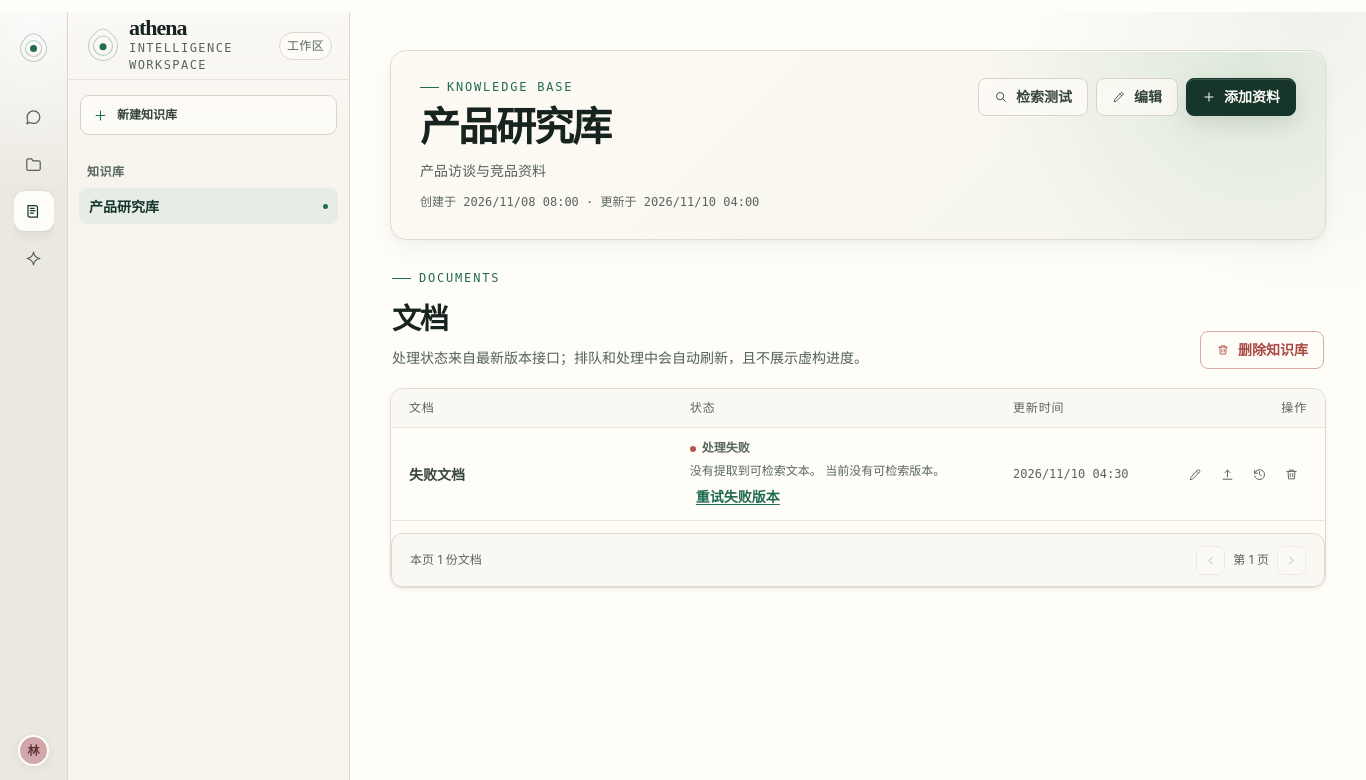
Test: 知识库文档状态 › 失败的最新版本可重试并回到排队状态
The width and height of the screenshot is (1366, 780).
Expected: the text "处理失败" is shown, x1=690 y1=439 x2=750 y2=458
Expected: the text "没有提取到可检索文本。 当前没有可检索版本。" is shown, x1=690 y1=462 x2=945 y2=480
Click the button "重试失败版本": x=738, y=497 x1=690 y1=484 x2=786 y2=510
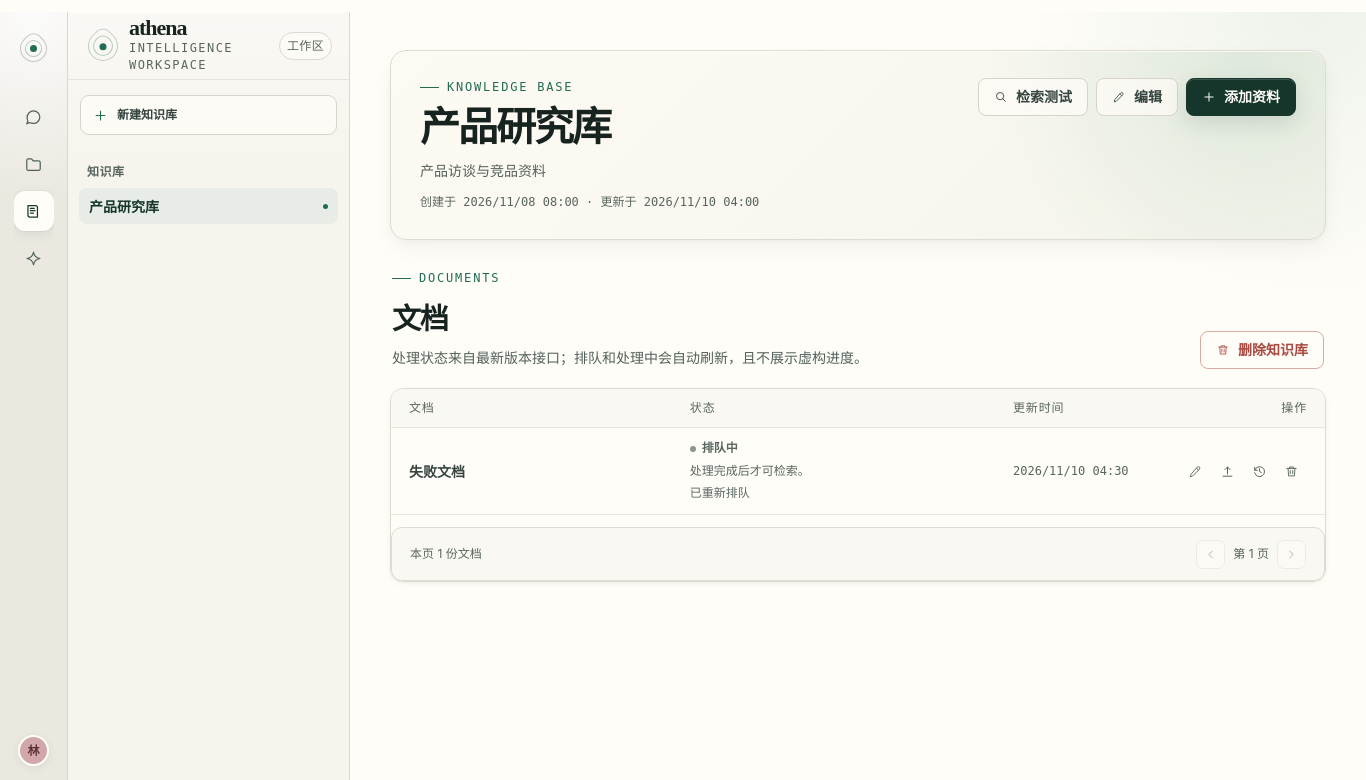
Expected: the text "已重新排队" is shown, x1=690 y1=484 x2=750 y2=503
Expected: the text "排队中" is shown, x1=690 y1=439 x2=738 y2=458
Expected: the text "处理完成后才可检索。" is shown, x1=690 y1=462 x2=810 y2=480
